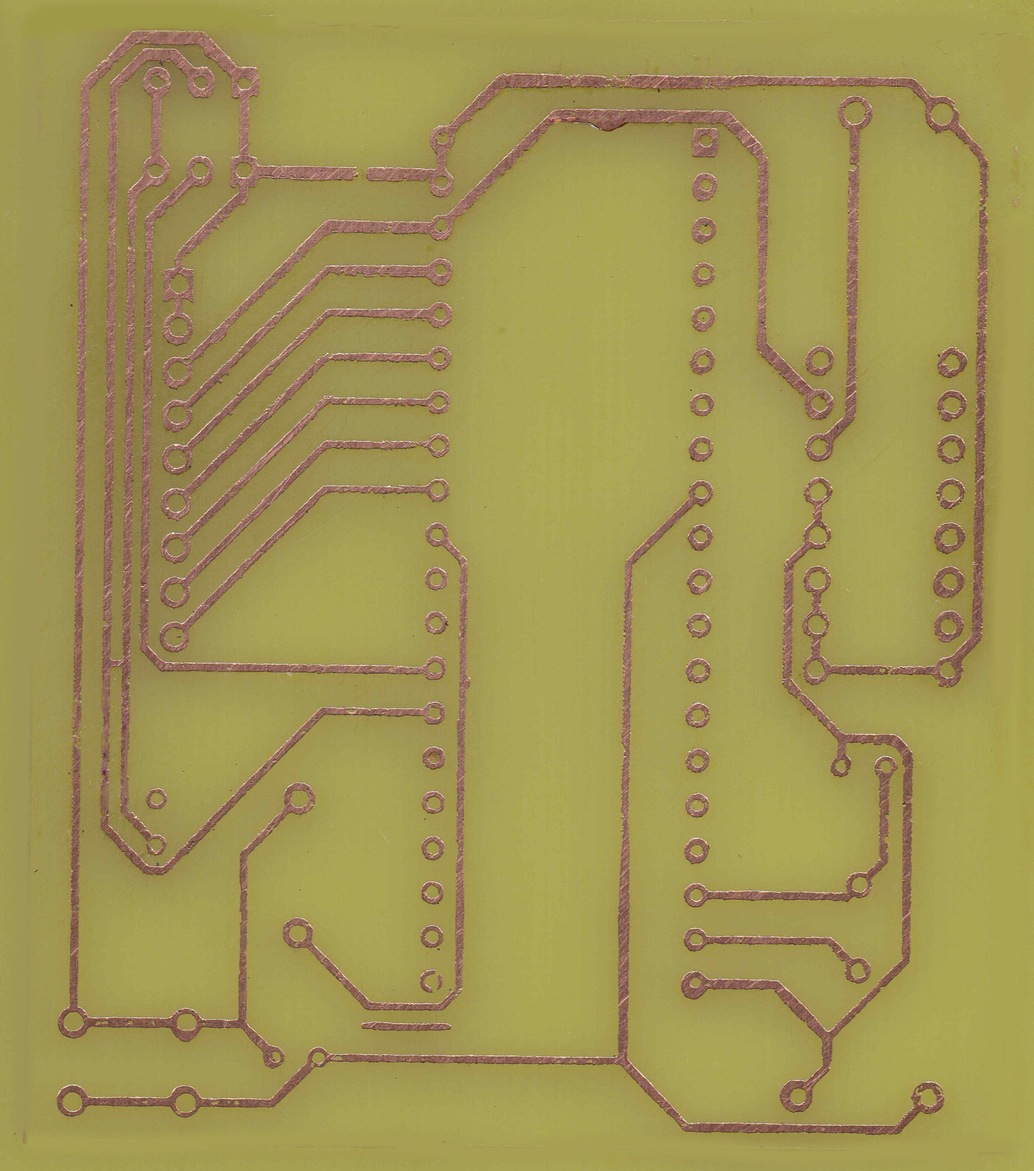missing_hole: (280, 780, 318, 816), (802, 520, 833, 551), (418, 965, 445, 994)
open_circuit: (344, 161, 376, 185)
short: (100, 652, 132, 672)
spur: (586, 106, 629, 135)
spurious_copper: (360, 1017, 452, 1035)
